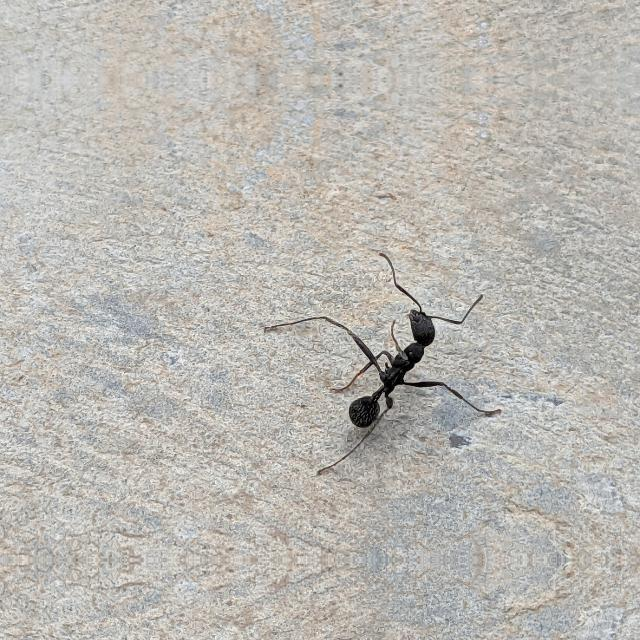Apheanogaster: (325, 283, 475, 443)
